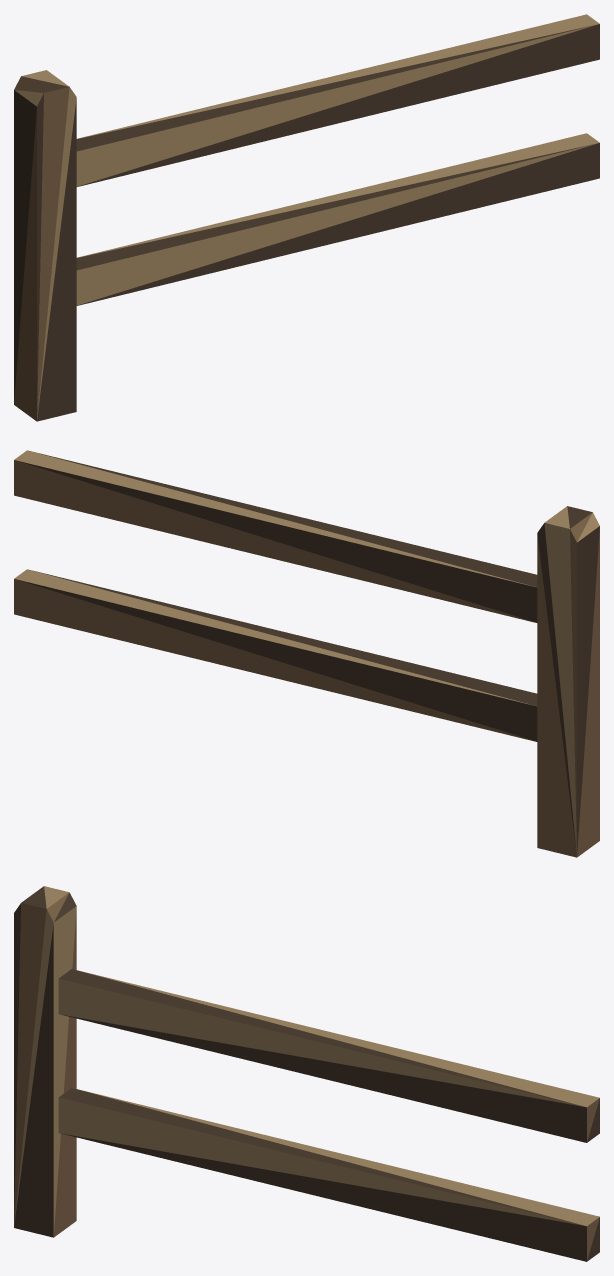
Rendered from TW_WOOD_RAIL_2M_A_LOD0.glb.
The picture shows the model from 3 angles, top to bottom: view 1: azimuth 30°, elevation 25°; view 2: azimuth 150°, elevation 25°; view 3: azimuth 330°, elevation 25°; orthographic projection.
Visible parts, largest first — view 1: TW_WOOD_RAIL_2M_A_LOD0; view 2: TW_WOOD_RAIL_2M_A_LOD0; view 3: TW_WOOD_RAIL_2M_A_LOD0.
Boxes of the visible parts, x1=… form: TW_WOOD_RAIL_2M_A_LOD0: x1=14, y1=14, x2=599, y2=421; TW_WOOD_RAIL_2M_A_LOD0: x1=14, y1=450, x2=599, y2=857; TW_WOOD_RAIL_2M_A_LOD0: x1=14, y1=886, x2=599, y2=1261.
Size of the model in its own units: 2 by 1.1 by 0.14.
1 material, 1 textured.
